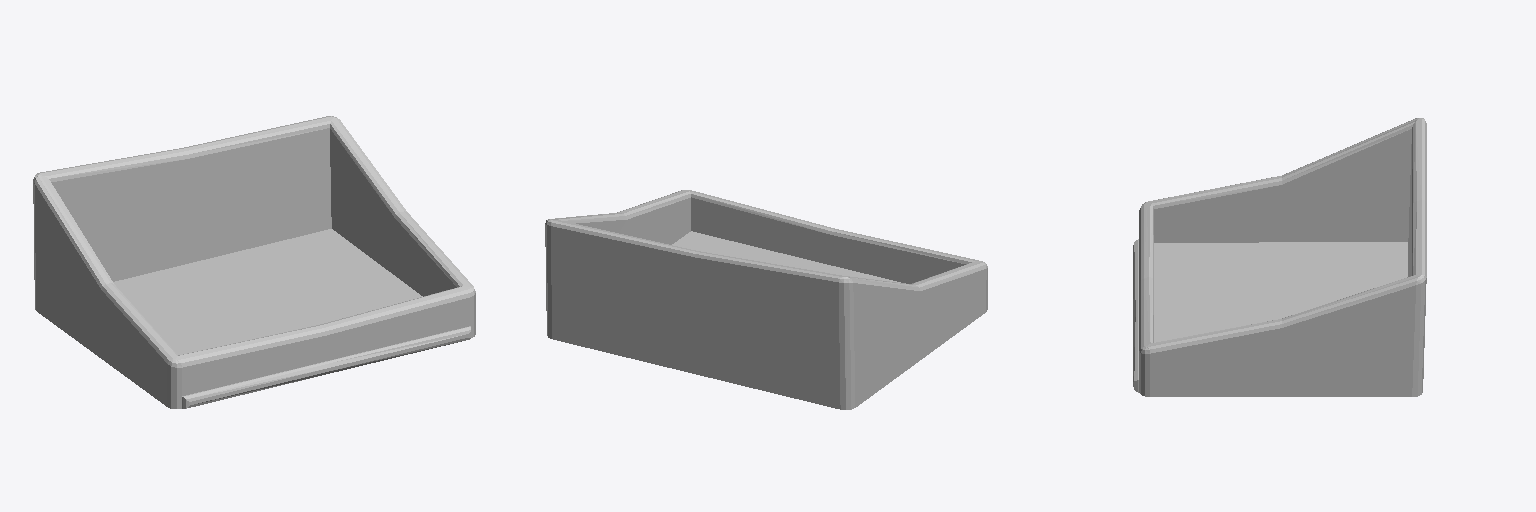
Rendered from broccoli.obj.
The picture shows the model from 3 angles: view 1: azimuth 30°, elevation 25°; view 2: azimuth 150°, elevation 25°; view 3: azimuth 270°, elevation 25°; orthographic projection.
Parts seen in each view (by area): view 1: basket broccoli_basket; view 2: basket broccoli_basket; view 3: basket broccoli_basket.
Part boxes in pixels (x1,y1,x2,y2): basket broccoli_basket: (33, 116, 475, 408); basket broccoli_basket: (545, 190, 987, 409); basket broccoli_basket: (1133, 118, 1426, 396).
Size of the model in its own units: 6 by 2.47 by 4.96.